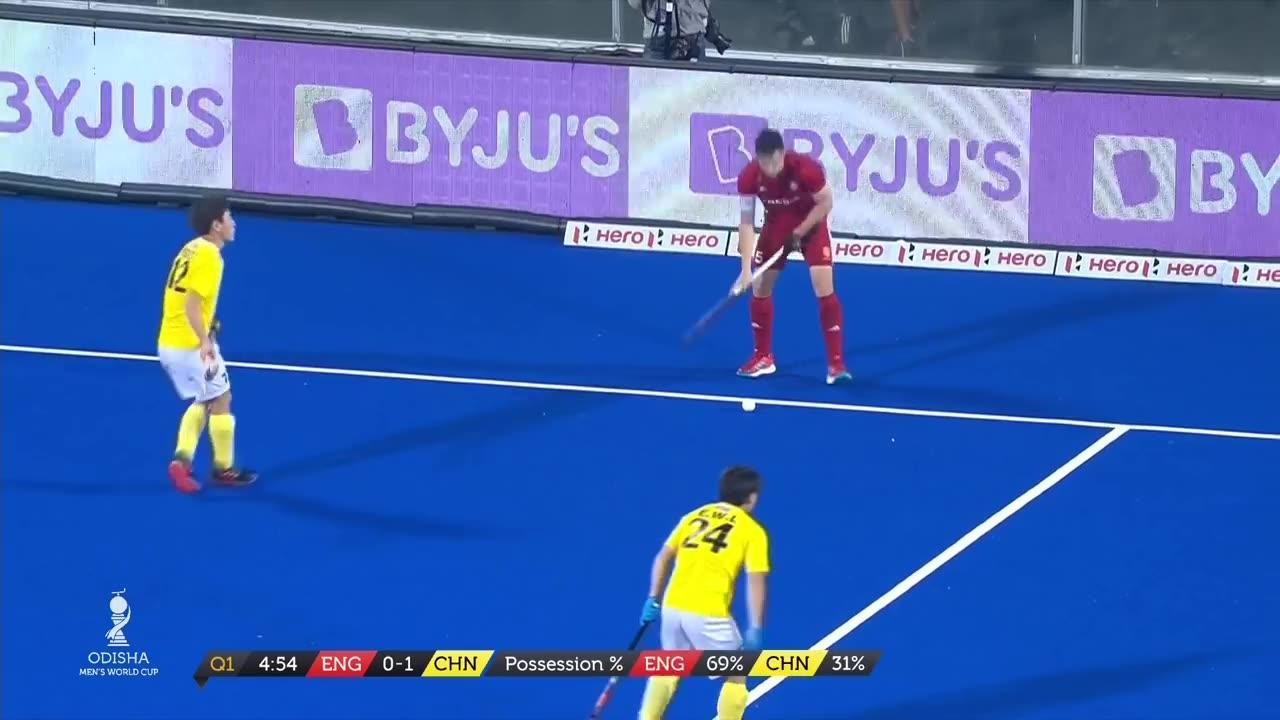ball: (740, 400, 762, 408)
